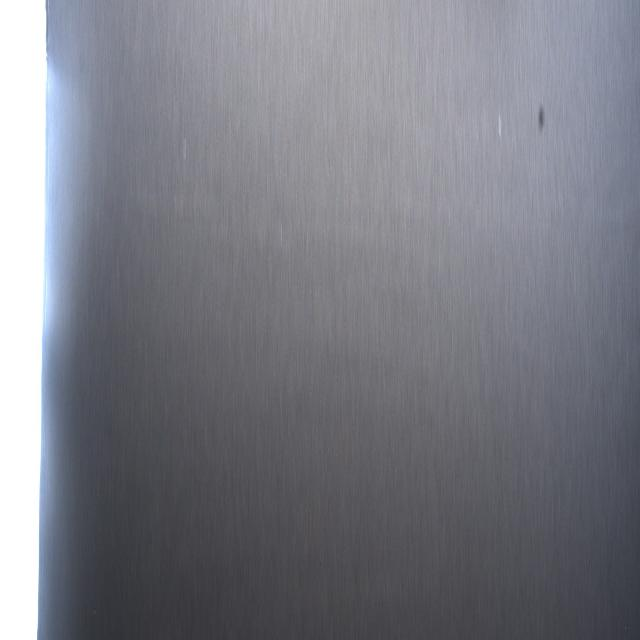whiteDefect: (183, 136, 189, 166), (498, 109, 501, 141)
